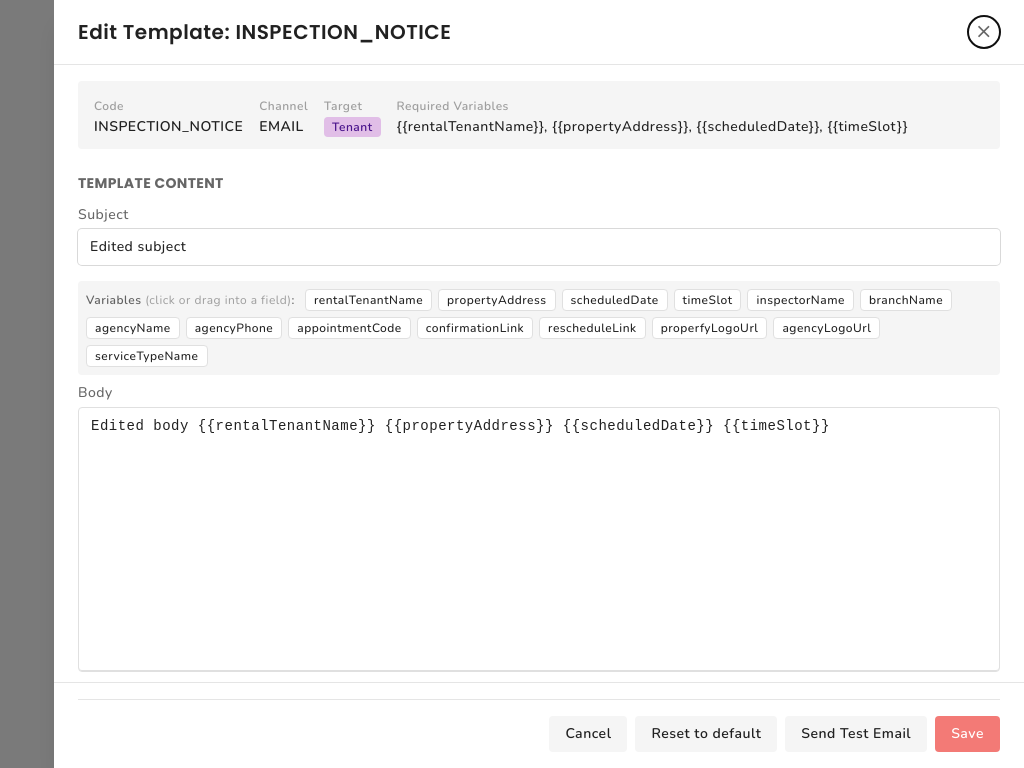
Test: TemplateFormDrawer — reset to default › replaces the form content with the fetched default after confirming
Click the button "Reset to default" at (706, 734), box [635,716,777,752]
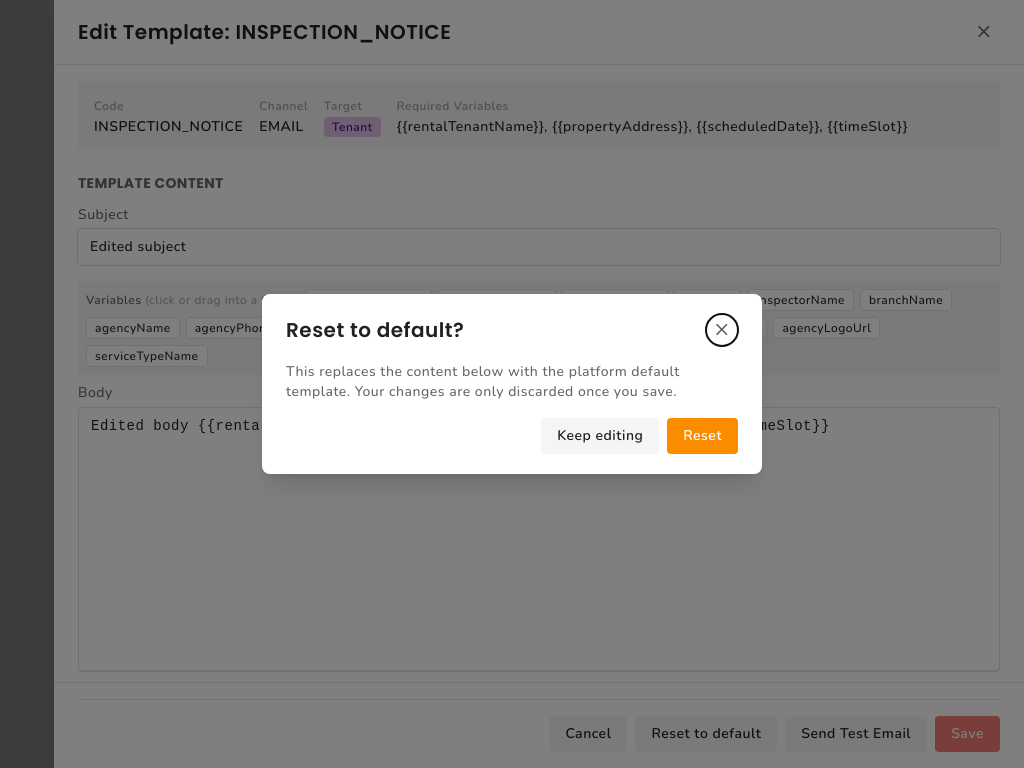
Click the button "Reset" at (703, 436), box [667,418,738,454]
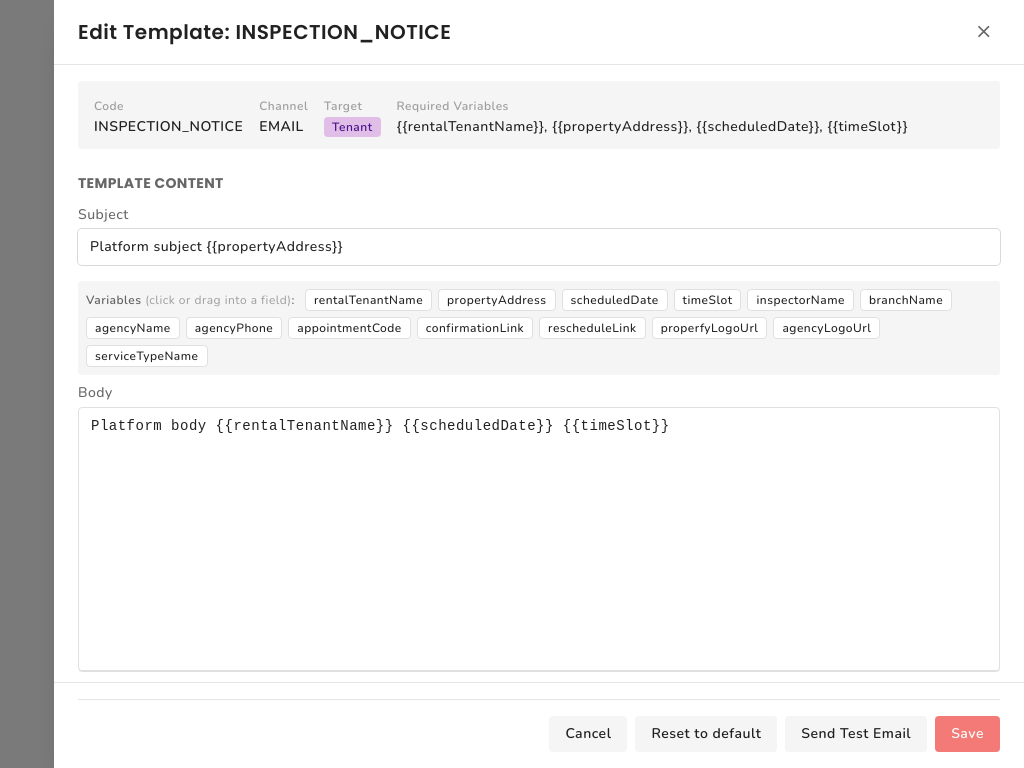
Now the text box named "Body" holds "Platform body {{rentalTenantName}} {{scheduledDate}} {{timeSlot}}", box [79,408,999,664]
Now the field named "subject" holds "Platform subject {{propertyAddress}}", box [78,229,1000,265]
